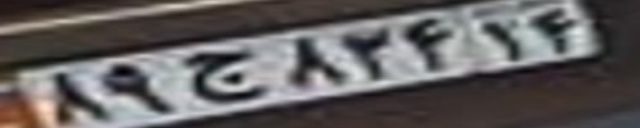1: (483, 14, 521, 59)
2: (341, 26, 391, 79)
4: (405, 18, 450, 71), (531, 7, 576, 53)
8: (284, 34, 335, 83), (47, 70, 94, 119)
9: (106, 62, 168, 110)
jim: (185, 46, 259, 99)
